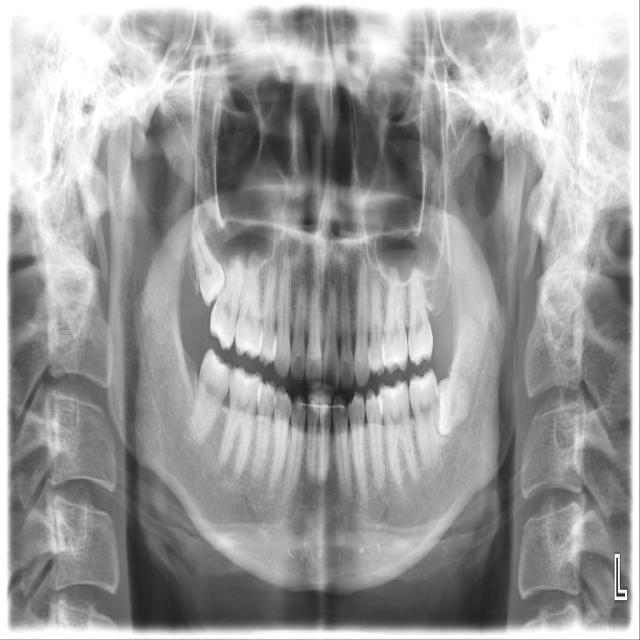impacted tooth: (192, 212, 227, 302), (439, 377, 474, 437)
